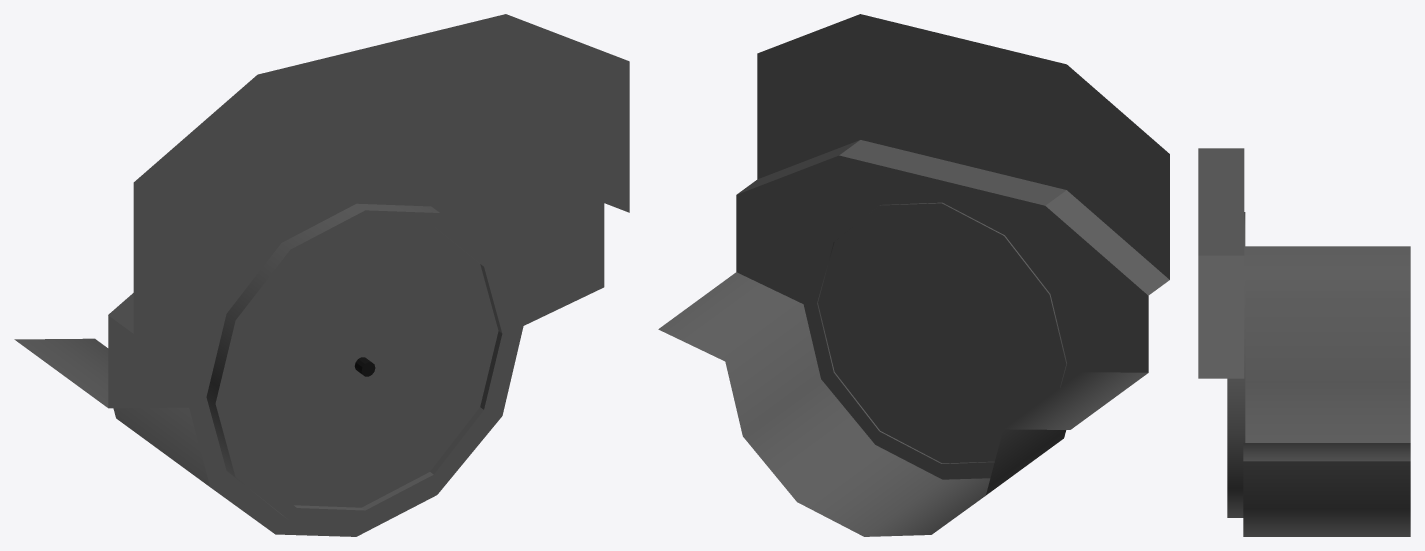
File: Itr_Obj_Grandfatherclock1_Body_04.FBX
3 renders of one model, left to right at view 1: azimuth 30°, elevation 25°; view 2: azimuth 150°, elevation 25°; view 3: azimuth 270°, elevation 25°, orthographic. The views are drawn at different scales.
Parts seen in each view (by area): view 1: Itr_Obj_Grandfatherclock1_Body_04; view 2: Itr_Obj_Grandfatherclock1_Body_04; view 3: Itr_Obj_Grandfatherclock1_Body_04.
Part boxes in pixels (x1=…): Itr_Obj_Grandfatherclock1_Body_04: x1=14, y1=14, x2=629, y2=536; Itr_Obj_Grandfatherclock1_Body_04: x1=658, y1=14, x2=1169, y2=536; Itr_Obj_Grandfatherclock1_Body_04: x1=1198, y1=148, x2=1410, y2=536.
Size of the model in its own units: 14.49 by 14.27 by 6.05.
